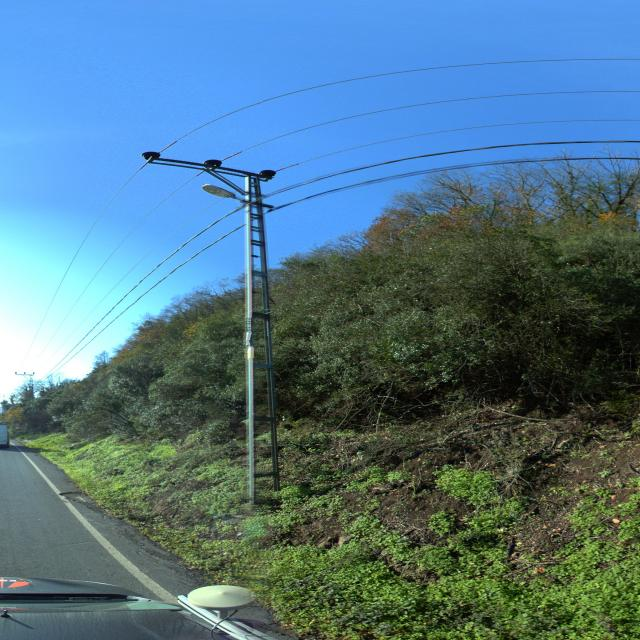Utility Pole Information Plate: (245, 332, 251, 345), (246, 348, 253, 359)
